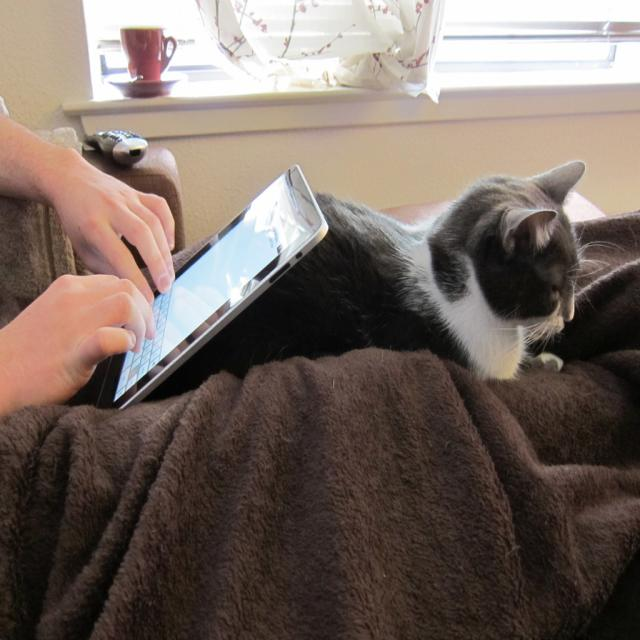Cat: (145, 156, 626, 398)
